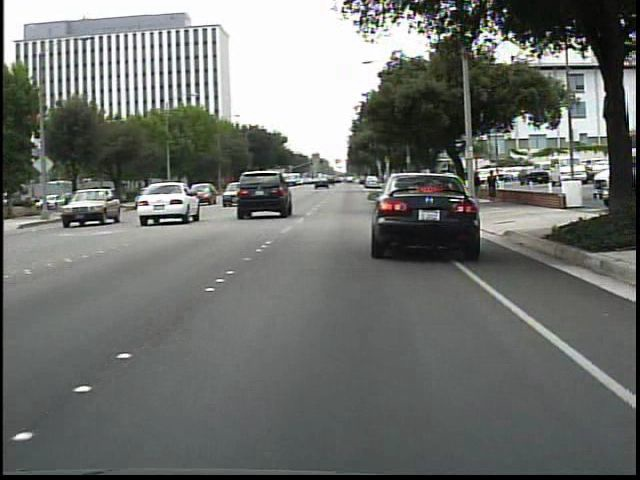person: (485, 170, 500, 205), (470, 171, 485, 202)
